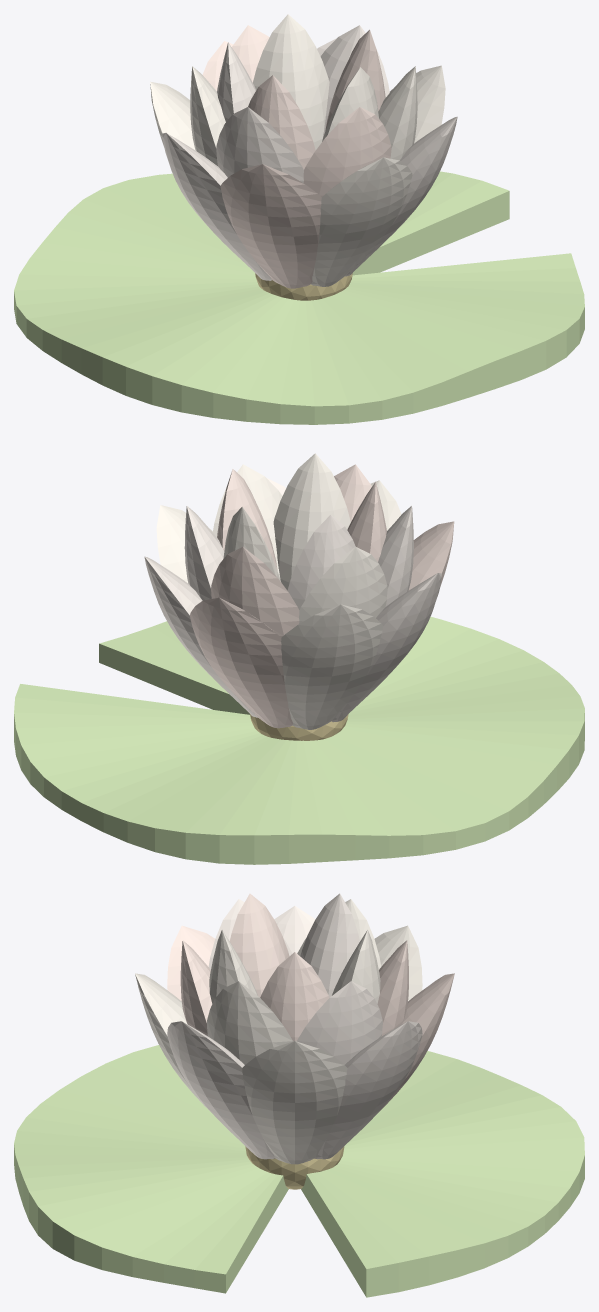
File: lotus_white_on_pad.glb
3 views of the same model, one above another, from view 1: azimuth 30°, elevation 25°; view 2: azimuth 150°, elevation 25°; view 3: azimuth 270°, elevation 25° (orthographic).
Parts seen in each view (by area): view 1: lotus_white_on_pad_00, lotus_white_on_pad_07, lotus_white_on_pad_08, lotus_white_on_pad_17, lotus_white_on_pad_14, lotus_white_on_pad_06, lotus_white_on_pad_13, lotus_white_on_pad_09, lotus_white_on_pad_19, lotus_white_on_pad_15, lotus_white_on_pad_12, lotus_white_on_pad_05 (+8 smaller); view 2: lotus_white_on_pad_00, lotus_white_on_pad_05, lotus_white_on_pad_04, lotus_white_on_pad_20, lotus_white_on_pad_11, lotus_white_on_pad_06, lotus_white_on_pad_12, lotus_white_on_pad_03, lotus_white_on_pad_18, lotus_white_on_pad_10, lotus_white_on_pad_13, lotus_white_on_pad_07 (+8 smaller); view 3: lotus_white_on_pad_00, lotus_white_on_pad_02, lotus_white_on_pad_03, lotus_white_on_pad_09, lotus_white_on_pad_15, lotus_white_on_pad_10, lotus_white_on_pad_16, lotus_white_on_pad_19, lotus_white_on_pad_18, lotus_white_on_pad_04, lotus_white_on_pad_08, lotus_white_on_pad_14 (+9 smaller).
Part boxes in pixels (box(x1,y1,x2,y2)): lotus_white_on_pad_00: box(14, 171, 584, 424); lotus_white_on_pad_07: box(220, 164, 321, 288); lotus_white_on_pad_08: box(311, 157, 412, 286); lotus_white_on_pad_17: box(253, 14, 329, 149); lotus_white_on_pad_14: box(303, 107, 391, 196); lotus_white_on_pad_06: box(162, 133, 271, 280); lotus_white_on_pad_13: box(216, 107, 303, 182); lotus_white_on_pad_09: box(345, 116, 457, 276); lotus_white_on_pad_19: box(248, 75, 315, 169); lotus_white_on_pad_15: box(378, 66, 417, 160); lotus_white_on_pad_12: box(190, 66, 225, 165); lotus_white_on_pad_05: box(150, 81, 195, 150); lotus_white_on_pad_00: box(14, 616, 584, 864); lotus_white_on_pad_05: box(281, 604, 383, 729); lotus_white_on_pad_04: box(190, 597, 292, 728); lotus_white_on_pad_20: box(273, 453, 350, 590); lotus_white_on_pad_11: box(211, 547, 299, 637); lotus_white_on_pad_06: box(331, 573, 441, 722); lotus_white_on_pad_12: box(299, 546, 387, 623); lotus_white_on_pad_03: box(144, 556, 257, 717); lotus_white_on_pad_18: box(287, 514, 355, 609); lotus_white_on_pad_10: box(184, 506, 224, 600); lotus_white_on_pad_13: box(378, 506, 413, 606); lotus_white_on_pad_07: box(408, 521, 454, 590); lotus_white_on_pad_00: box(14, 1045, 584, 1297); lotus_white_on_pad_02: box(242, 1041, 347, 1164); lotus_white_on_pad_03: box(315, 1021, 422, 1159); lotus_white_on_pad_09: box(167, 1021, 274, 1159); lotus_white_on_pad_15: box(206, 981, 293, 1158); lotus_white_on_pad_10: box(296, 981, 382, 1158); lotus_white_on_pad_16: box(260, 952, 329, 1041); lotus_white_on_pad_19: box(229, 893, 289, 997); lotus_white_on_pad_18: box(300, 893, 359, 997); lotus_white_on_pad_04: box(377, 973, 454, 1113); lotus_white_on_pad_08: box(135, 973, 209, 1110); lotus_white_on_pad_14: box(180, 940, 212, 1036).
Bounding box in the file's own units: 1.29 × 0.6698 × 1.3.
